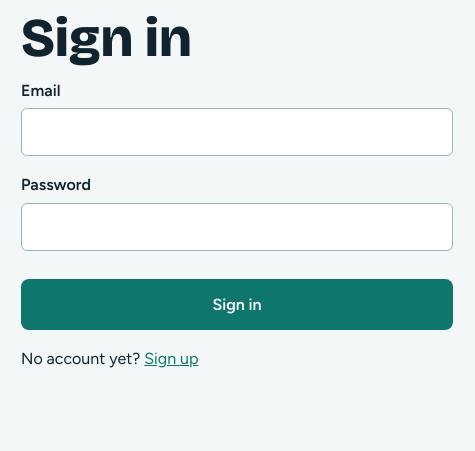
SignIn page › shows the server error message when the credentials are wrong
This screenshot has width=475, height=451.
Type "admin@example.com" into the field labelled "Email" at {"x": 237, "y": 132}, box [21,108,453,156]
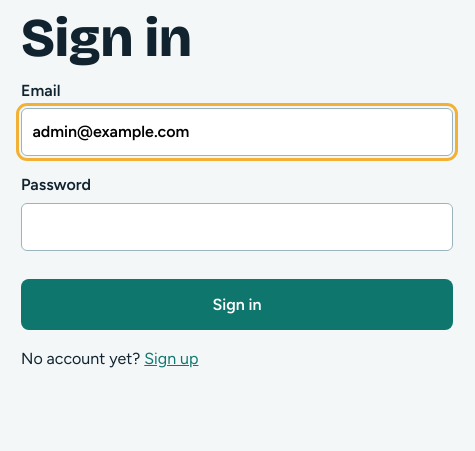
Type "wrong" into the password field labelled "Password" at {"x": 237, "y": 227}, box [21,203,453,251]
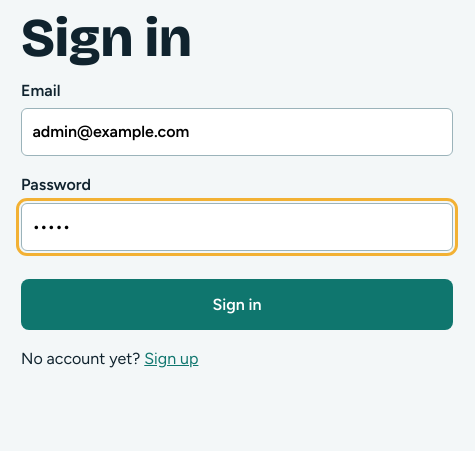
Click the button "Sign in" at {"x": 237, "y": 305}, box [21,279,453,330]
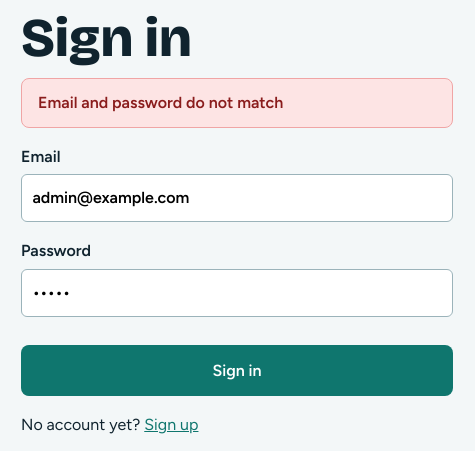
Expected: the message reads "Email and password do not match", [38,93,283,112]
